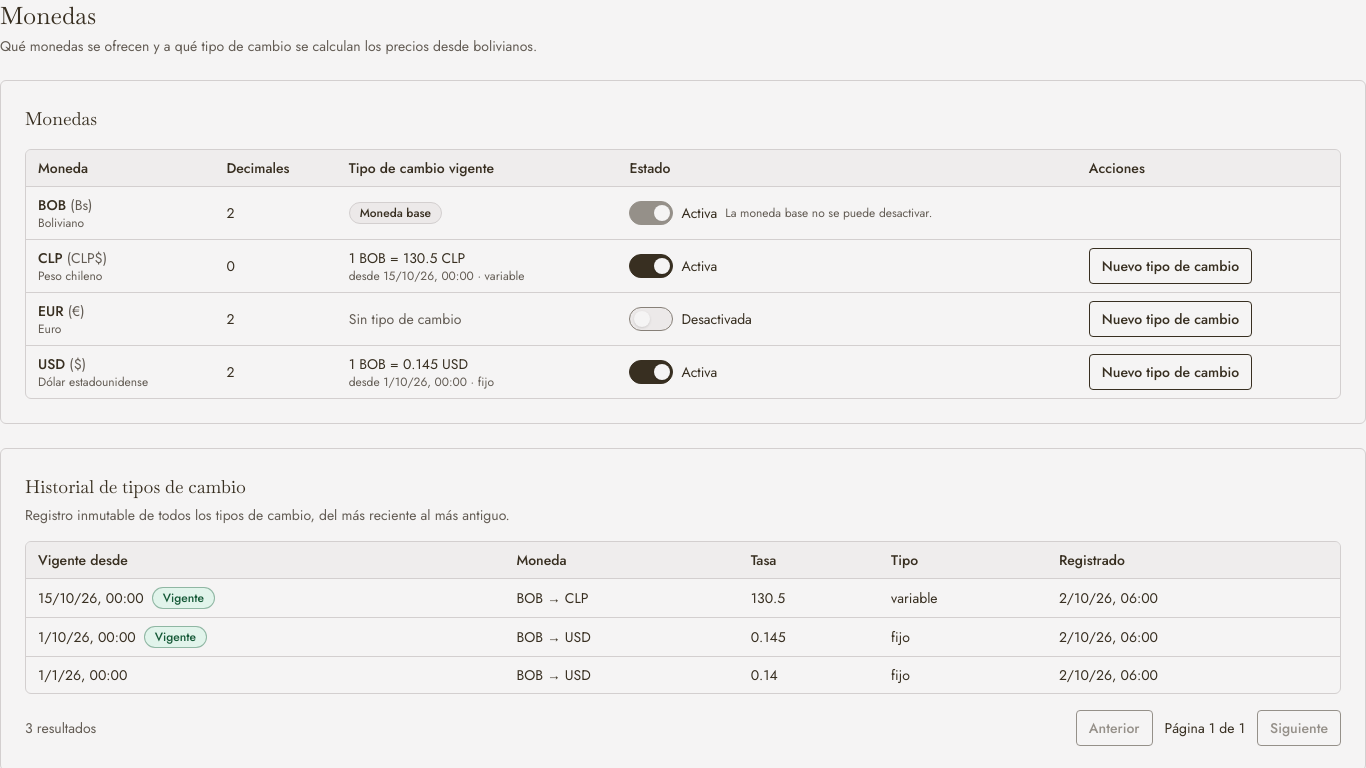
CurrenciesPage: activar y desactivar › si ningún país activo la usa, lo dice
The image size is (1366, 768).
Check: the text "Peso chileno" is shown, box [38,267,102,285]
Click the switch named "Moneda Peso chileno".
click(651, 266)  # box [629,254,673,278]
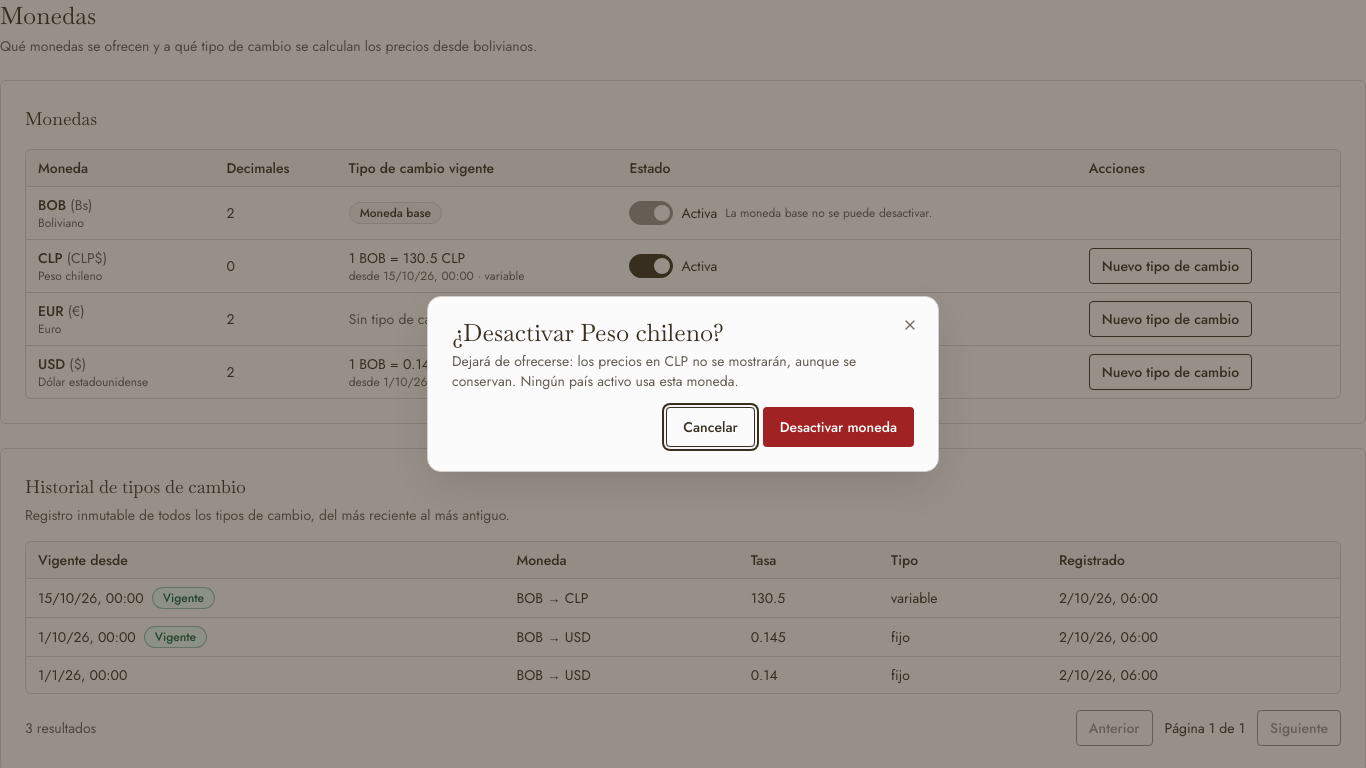
Check: the text "Ningún país activo usa esta moneda." is shown, box [452,351,856,391]
